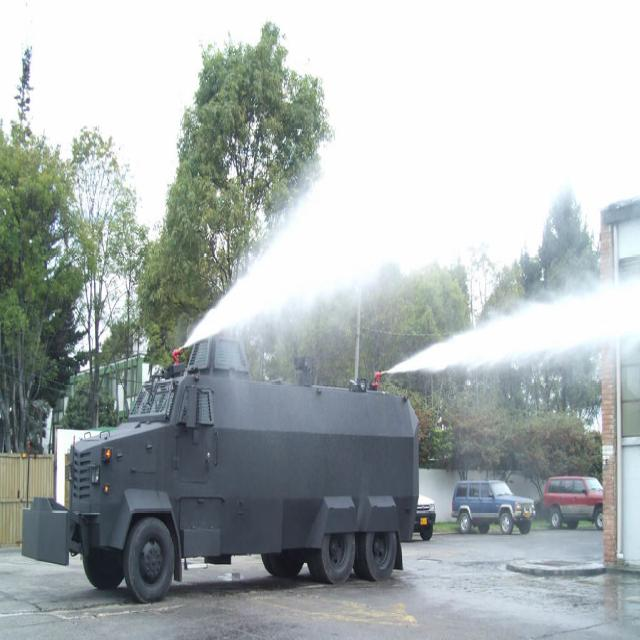car: (449, 476, 533, 533)
